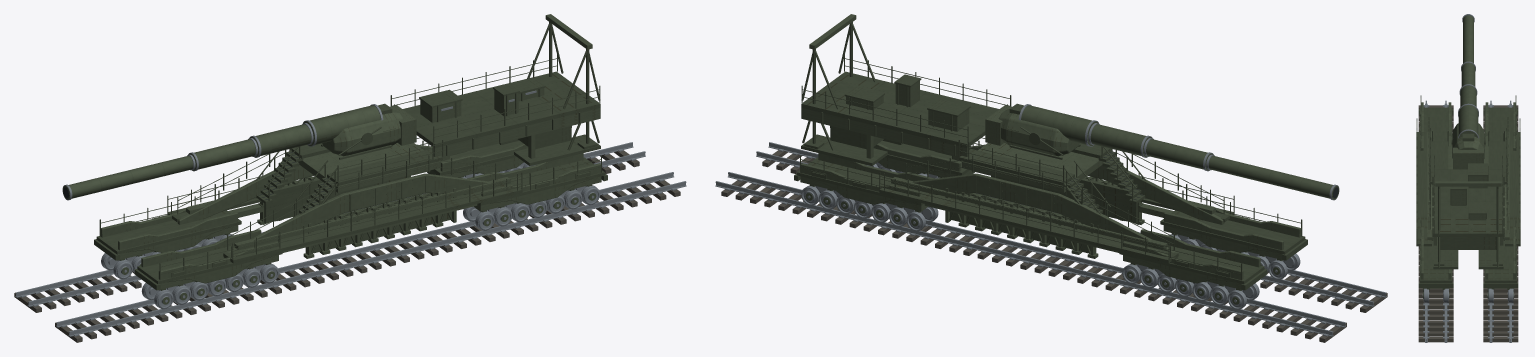
File: runtime-field-olive.glb
3 views of the same model, side by side, from view 1: azimuth 30°, elevation 25°; view 2: azimuth 150°, elevation 25°; view 3: azimuth 270°, elevation 25° (orthographic). The views are drawn at different scales.
Parts seen in each view (by area): view 1: main-outer-frame-paint-batch, walkways-deck-batch, display-rails-steel-batch, closed-cylinder-shell-paint-batch, display-rails-sleeper-batch, rear-display-deck-deck-batch, walkways-trim-batch, rear-display-deck-trim-batch, rear-display-deck-paint-batch, main-outer-frame-trim-batch, surface-decoration-trim-batch, surface-decoration-paint-batch (+1 smaller); view 2: main-outer-frame-paint-batch, walkways-deck-batch, display-rails-steel-batch, closed-cylinder-shell-paint-batch, display-rails-sleeper-batch, rear-display-deck-deck-batch, walkways-trim-batch, rear-display-deck-trim-batch, rear-display-deck-paint-batch, main-outer-frame-trim-batch, surface-decoration-trim-batch, surface-decoration-paint-batch (+1 smaller); view 3: walkways-deck-batch, rear-display-deck-deck-batch, display-rails-sleeper-batch, closed-cylinder-shell-paint-batch, main-outer-frame-paint-batch, rear-display-deck-trim-batch, walkways-trim-batch, surface-decoration-trim-batch, rear-display-deck-paint-batch, display-rails-steel-batch, closed-cylinder-shell-steel-batch, closed-cylinder-shell-trim-batch (+1 smaller).
Part boxes in pixels (x1=…): main-outer-frame-paint-batch: x1=100, y1=143, x2=601, y2=290; walkways-deck-batch: x1=96, y1=140, x2=604, y2=284; display-rails-steel-batch: x1=15, y1=142, x2=686, y2=336; closed-cylinder-shell-paint-batch: x1=62, y1=105, x2=416, y2=199; display-rails-sleeper-batch: x1=14, y1=150, x2=680, y2=342; rear-display-deck-deck-batch: x1=402, y1=71, x2=600, y2=165; walkways-trim-batch: x1=99, y1=104, x2=601, y2=280; rear-display-deck-trim-batch: x1=390, y1=22, x2=600, y2=149; rear-display-deck-paint-batch: x1=420, y1=14, x2=600, y2=158; main-outer-frame-trim-batch: x1=119, y1=172, x2=592, y2=290; surface-decoration-trim-batch: x1=94, y1=87, x2=607, y2=290; surface-decoration-paint-batch: x1=121, y1=172, x2=596, y2=304; main-outer-frame-paint-batch: x1=800, y1=143, x2=1301, y2=290; walkways-deck-batch: x1=797, y1=140, x2=1305, y2=284; display-rails-steel-batch: x1=715, y1=142, x2=1386, y2=336; closed-cylinder-shell-paint-batch: x1=985, y1=105, x2=1339, y2=199; display-rails-sleeper-batch: x1=721, y1=150, x2=1387, y2=342; rear-display-deck-deck-batch: x1=801, y1=71, x2=999, y2=165; walkways-trim-batch: x1=800, y1=104, x2=1302, y2=280; rear-display-deck-trim-batch: x1=801, y1=22, x2=1011, y2=149; rear-display-deck-paint-batch: x1=801, y1=14, x2=969, y2=158; main-outer-frame-trim-batch: x1=809, y1=172, x2=1282, y2=290; surface-decoration-trim-batch: x1=794, y1=83, x2=1307, y2=290; surface-decoration-paint-batch: x1=805, y1=172, x2=1279, y2=304; walkways-deck-batch: x1=1416, y1=107, x2=1520, y2=283; rear-display-deck-deck-batch: x1=1433, y1=169, x2=1503, y2=269; display-rails-sleeper-batch: x1=1418, y1=105, x2=1518, y2=342; closed-cylinder-shell-paint-batch: x1=1452, y1=15, x2=1484, y2=169; main-outer-frame-paint-batch: x1=1421, y1=102, x2=1515, y2=288; rear-display-deck-trim-batch: x1=1434, y1=155, x2=1502, y2=261; walkways-trim-batch: x1=1416, y1=95, x2=1520, y2=279; surface-decoration-trim-batch: x1=1418, y1=107, x2=1518, y2=287; rear-display-deck-paint-batch: x1=1433, y1=176, x2=1503, y2=245; display-rails-steel-batch: x1=1423, y1=100, x2=1513, y2=342; closed-cylinder-shell-steel-batch: x1=1458, y1=14, x2=1478, y2=138; closed-cylinder-shell-trim-batch: x1=1451, y1=133, x2=1485, y2=144.
Bounding box in the file's own units: 26 × 6.54 × 4.8.
Materials: 6 (3 with a texture image).
